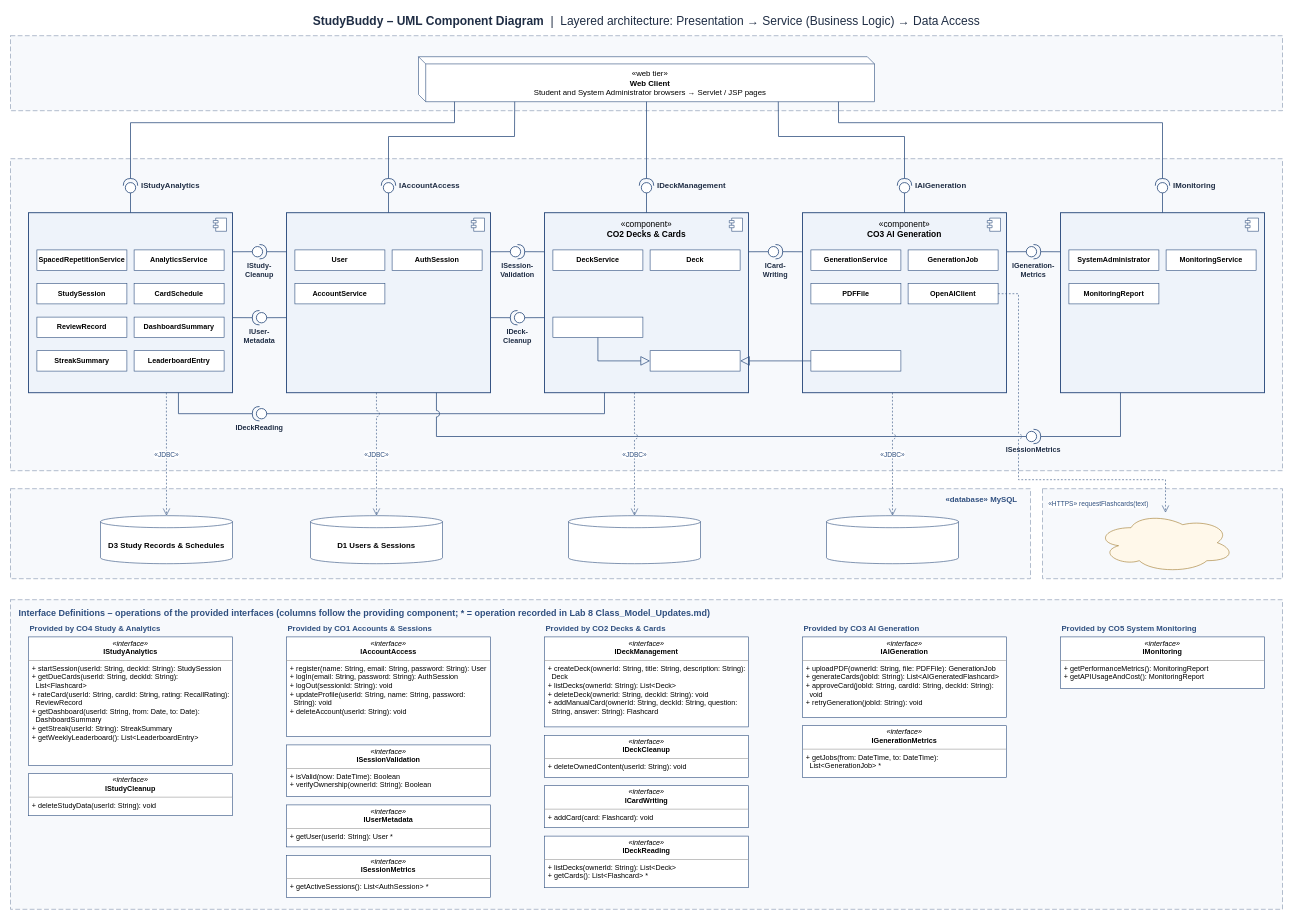
The diagram is 1293 pixels wide and 920 high, and some of its shapes have lost their labels. Each missing label, with the box of its shape:
AIGeneratedFlashcard: (810, 350, 901, 371)
D2 Decks & Cards: (568, 515, 700, 564)
D4 Generation Jobs: (826, 515, 958, 564)
Data Access Layer (DAO / JDBC): (10, 488, 1030, 579)
External Services: (1042, 488, 1282, 579)
Flashcard: (650, 350, 740, 371)
ManualFlashcard: (552, 316, 643, 338)
Presentation Layer (Java Servlets / JSP): (10, 35, 1282, 111)
Service (Business Logic) Layer: (10, 158, 1282, 471)
«component» CO1 Accounts & Sessions: (286, 212, 491, 393)
«component» CO4 Study & Analytics: (28, 212, 233, 393)
«component» CO5 System Monitoring: (1060, 212, 1265, 393)
«external service» OpenAI API: (1096, 512, 1234, 573)
